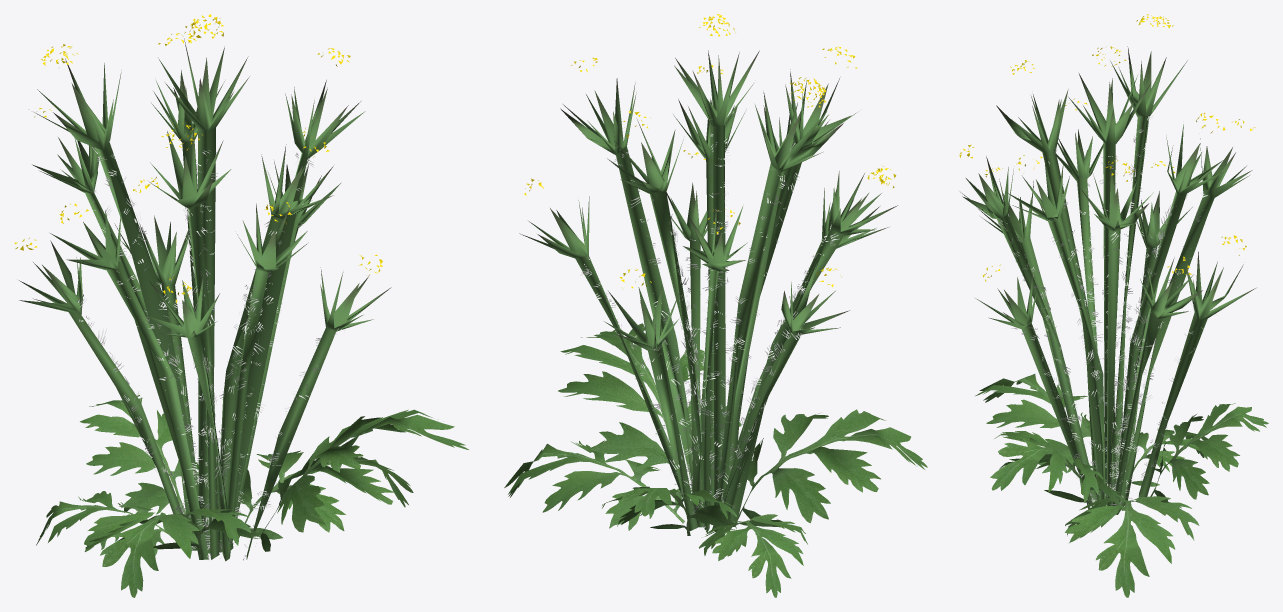
File: garden-pasque.glb
3 renders of one model, left to right at view 1: azimuth 30°, elevation 25°; view 2: azimuth 150°, elevation 25°; view 3: azimuth 270°, elevation 25°, orthographic. The views are drawn at different scales.
Parts seen in each view (by area): view 1: garden-pasque; view 2: garden-pasque; view 3: garden-pasque.
Boxes of the visible parts, left/top/right/bottom form: garden-pasque: left=14, top=14, right=468, bottom=597; garden-pasque: left=504, top=14, right=927, bottom=597; garden-pasque: left=959, top=14, right=1268, bottom=597.
Bounding box in the file's own units: 0.1991 × 0.2783 × 0.1702.
4 materials, 4 textured.
